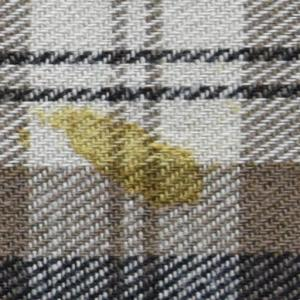Oil Stain: (11, 93, 214, 219)
